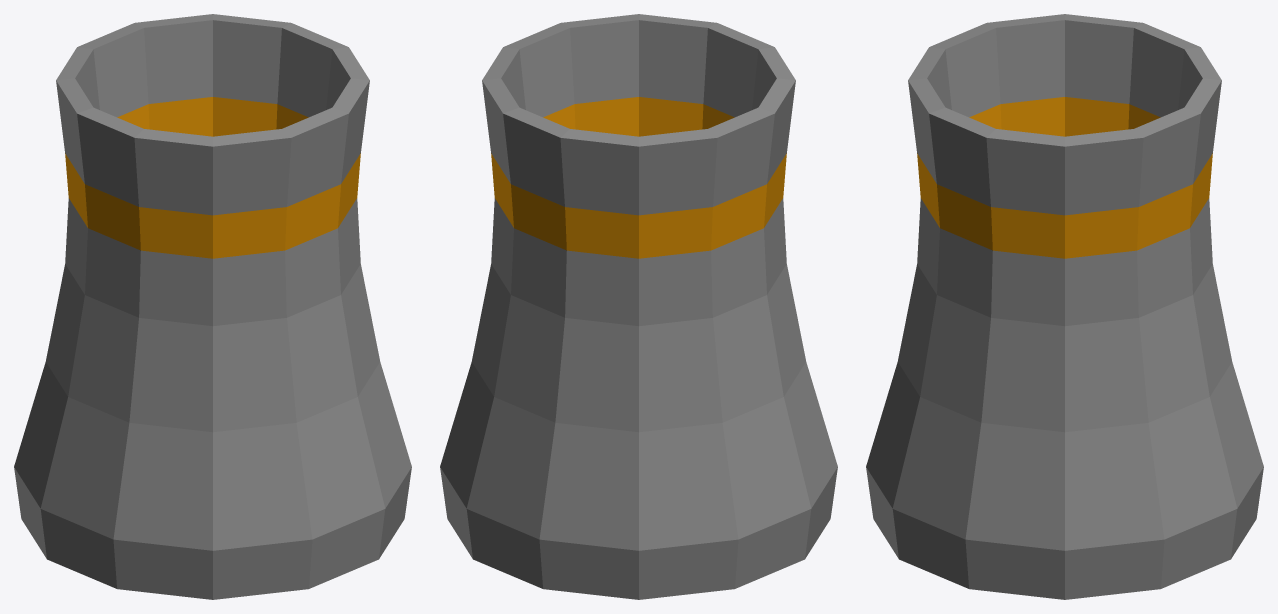
The model's file is Short_Ecs.fbx.
3 renders of one model, left to right at view 1: azimuth 30°, elevation 25°; view 2: azimuth 150°, elevation 25°; view 3: azimuth 270°, elevation 25°, orthographic.
Visible parts, largest first — view 1: Cylinder; view 2: Cylinder; view 3: Cylinder.
Boxes of the visible parts, x1,y1,x2,y2 form: Cylinder: (14, 14, 411, 599); Cylinder: (440, 14, 837, 599); Cylinder: (866, 14, 1263, 599).
Bounding box in the file's own units: 208 × 254 × 208.
